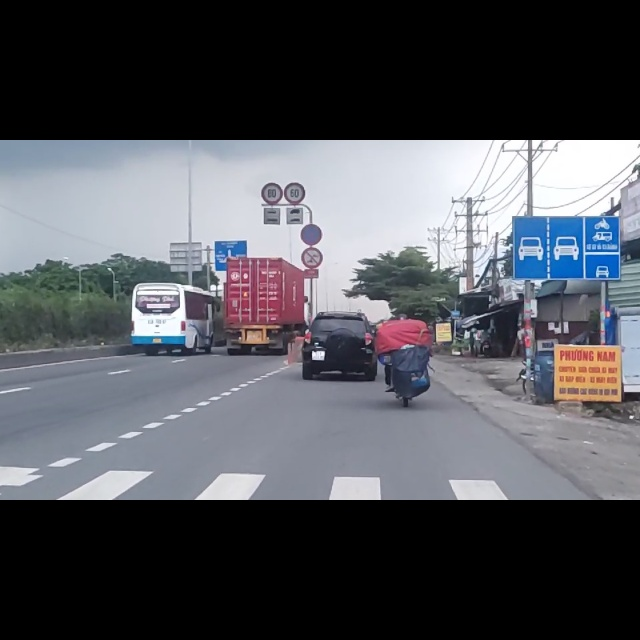bien_cam: (512, 135, 621, 249), (300, 148, 323, 186), (284, 75, 305, 116), (261, 76, 283, 115), (301, 191, 323, 229)
